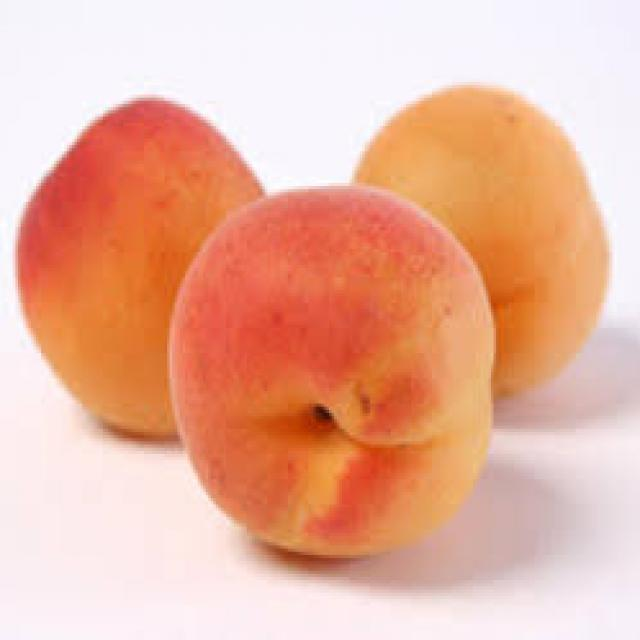organic waste: (164, 186, 491, 561), (16, 98, 268, 441), (349, 85, 606, 397)
